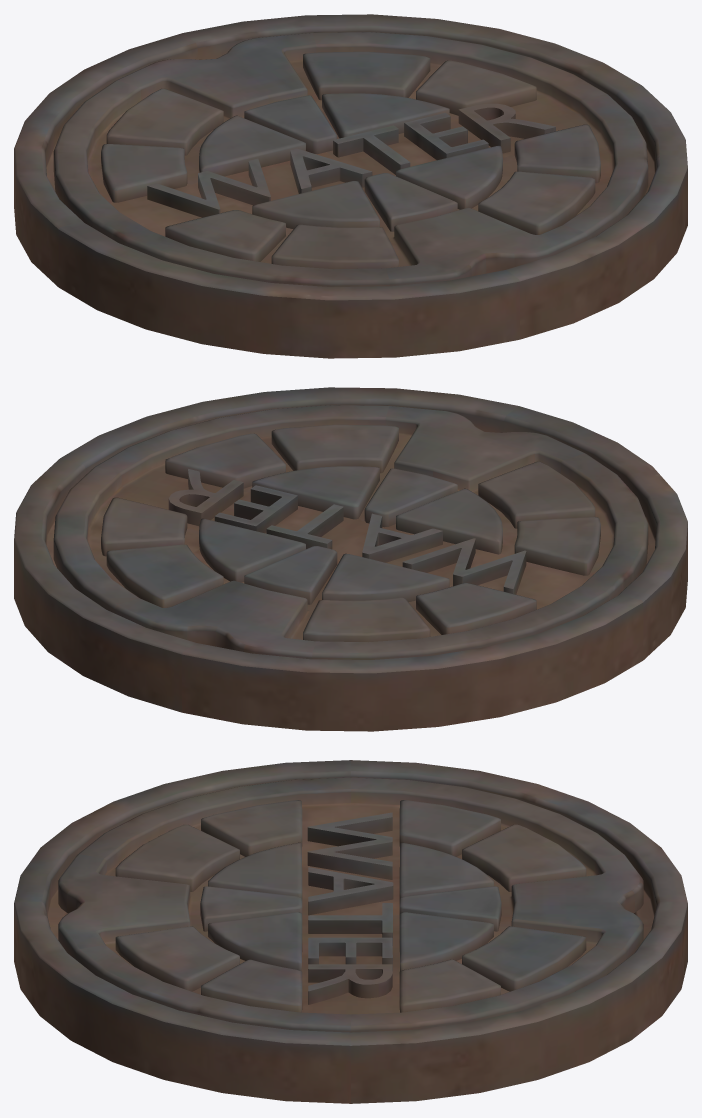
File: manhole.glb
The picture shows the model from 3 angles, top to bottom: view 1: azimuth 30°, elevation 25°; view 2: azimuth 150°, elevation 25°; view 3: azimuth 270°, elevation 25°; orthographic projection.
Parts seen in each view (by area): view 1: water_manhole_cover, water_manhole_cover_frame; view 2: water_manhole_cover, water_manhole_cover_frame; view 3: water_manhole_cover, water_manhole_cover_frame.
Part boxes in pixels (x1=…): water_manhole_cover: x1=53, y1=32, x2=648, y2=286; water_manhole_cover_frame: x1=14, y1=14, x2=687, y2=358; water_manhole_cover: x1=53, y1=405, x2=648, y2=659; water_manhole_cover_frame: x1=14, y1=387, x2=687, y2=731; water_manhole_cover: x1=58, y1=777, x2=643, y2=1032; water_manhole_cover_frame: x1=14, y1=760, x2=687, y2=1103.
Size of the model in its own units: 0.6908 by 0.0676 by 0.6908.
Materials: 1 (1 with a texture image).
